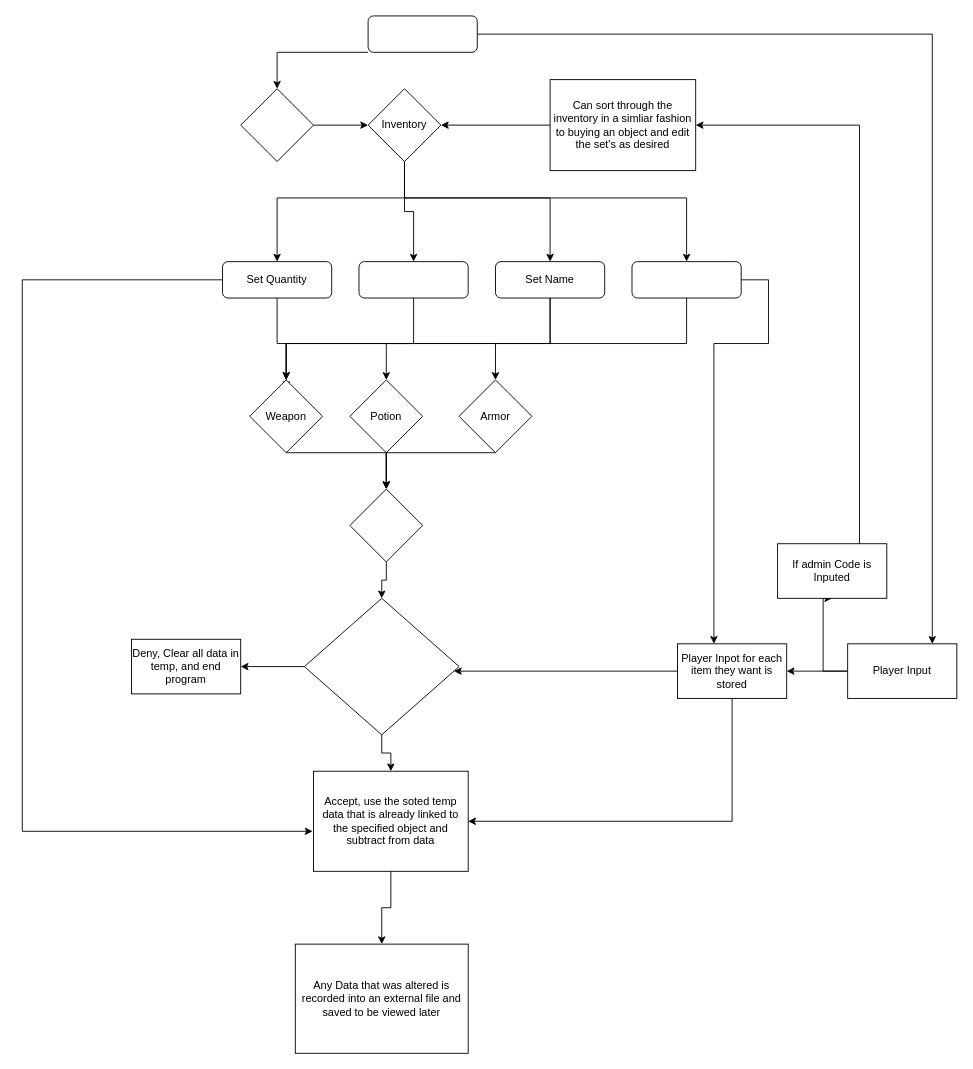
The diagram is 973 pixels wide and 1069 high, and some of its shapes have lost their labels. The shapes that lost their labels are listed below. From the top down, each one's box as (x1, y1, x2, y2) in pixels, then its label:
(367, 15, 477, 52): Store Opens
(240, 88, 313, 162): Initilized inventory
(358, 261, 468, 298): Set Price
(631, 261, 741, 298): TempNumber
(349, 488, 423, 562): Finished Produce
(303, 597, 459, 735): Choose either accept all or deny all
